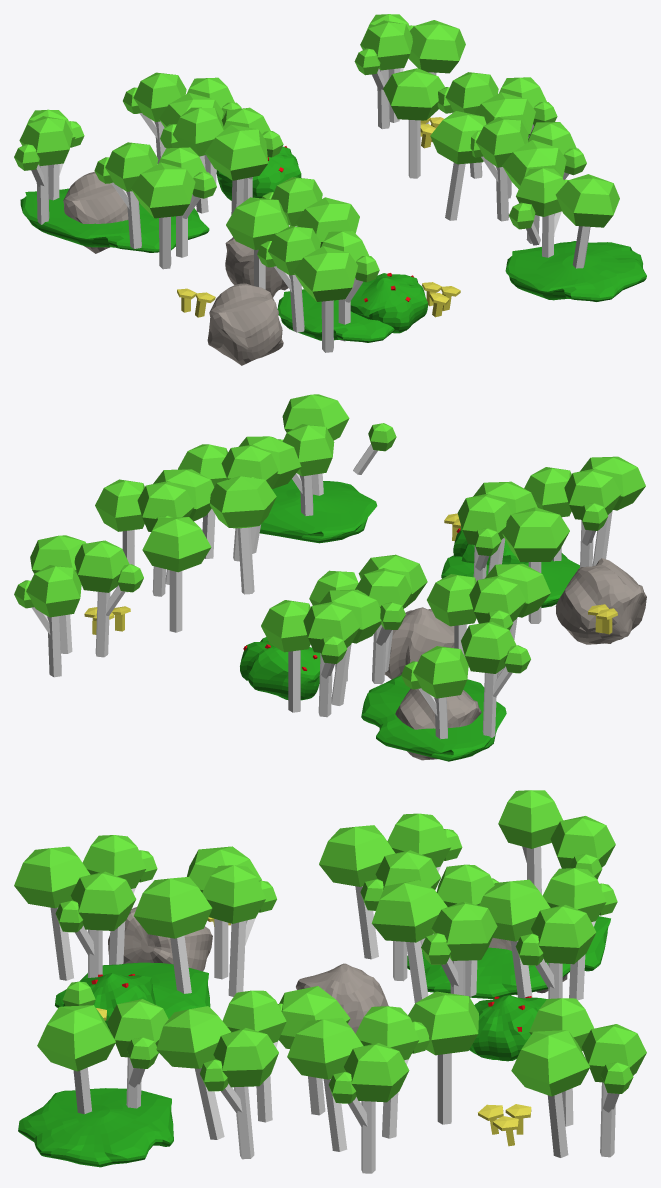
File: forest_birch_forest.glb
The picture shows the model from 3 angles, top to bottom: view 1: azimuth 30°, elevation 25°; view 2: azimuth 150°, elevation 25°; view 3: azimuth 270°, elevation 25°; orthographic projection. The views are drawn at different scales.
Visible parts, largest first — view 1: bush.008, rock2.002, bush.007, bush.012, Sphere.005, Sphere.041, Sphere.021, bush.009, Sphere.051, rock2.003, Sphere.006, Sphere.046 (+40 smaller); view 2: bush.007, rock2.002, bush.008, bush.011, Sphere.006, Sphere.004, Sphere.011, rock2.001, Sphere.044, Sphere.063, rock2.003, Sphere.067 (+43 smaller); view 3: bush.008, bush.007, Sphere.051, Sphere.046, Sphere.016, Sphere.005, bush.011, Sphere.006, Sphere.041, Sphere.026, Sphere.021, Sphere.031 (+57 smaller).
Part boxes in pixels (x1,y1,x2,y2): bush.008: (505, 241, 646, 301); rock2.002: (207, 283, 283, 365); bush.007: (20, 188, 209, 252); bush.012: (350, 273, 427, 333); Sphere.005: (205, 124, 268, 180); Sphere.041: (293, 246, 357, 301); Sphere.021: (131, 162, 195, 218); bush.009: (277, 289, 417, 342); Sphere.051: (555, 174, 619, 227); rock2.003: (63, 171, 128, 253); Sphere.006: (383, 68, 445, 120); Sphere.046: (408, 20, 465, 73); bush.007: (361, 675, 506, 761); rock2.002: (555, 558, 646, 644); bush.008: (259, 479, 377, 543); bush.011: (240, 637, 320, 700); Sphere.006: (142, 517, 211, 572); Sphere.004: (502, 507, 569, 561); Sphere.011: (210, 476, 276, 528); rock2.001: (385, 607, 454, 679); Sphere.044: (26, 565, 81, 617); Sphere.063: (413, 646, 468, 698); rock2.003: (395, 688, 481, 760); Sphere.067: (461, 621, 516, 673); bush.008: (18, 1088, 173, 1167); bush.007: (407, 916, 610, 999); Sphere.051: (37, 1005, 115, 1071); Sphere.046: (511, 1030, 590, 1096); Sphere.016: (134, 877, 212, 938); Sphere.005: (371, 880, 447, 942); bush.011: (469, 995, 546, 1061); Sphere.006: (408, 991, 478, 1055); Sphere.041: (14, 846, 90, 908); Sphere.026: (287, 1017, 363, 1079); Sphere.021: (319, 825, 395, 886); Sphere.031: (156, 1006, 230, 1068).
Bounding box in the file's own units: 8.92 × 2.75 × 8.76.
